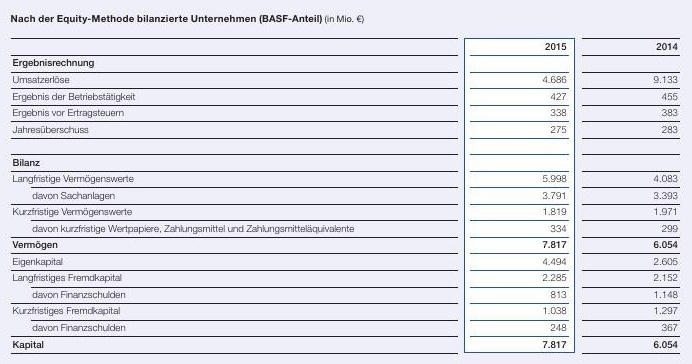table: (0, 0, 692, 364)
